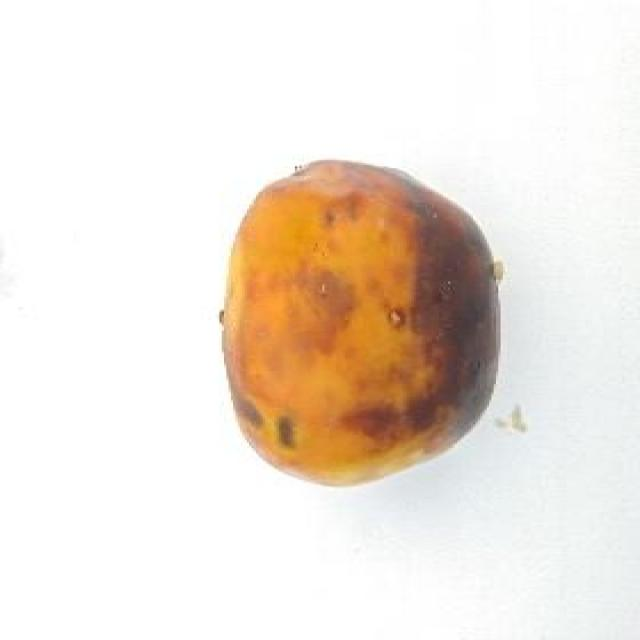Rotten: (221, 151, 505, 491)
